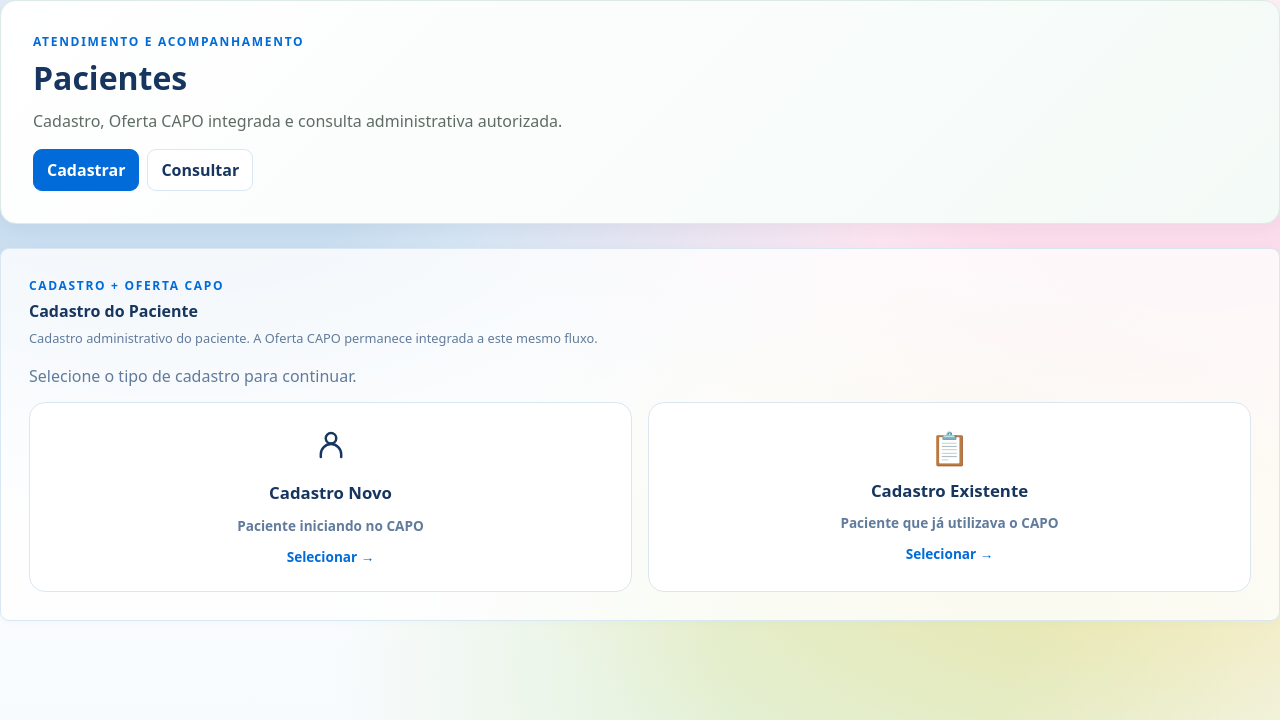
Test: localiza Familiar/Cuidador na busca de pacientes sem confundir o ID do familiar com o paciente de origem
The width and height of the screenshot is (1280, 720).
Click the button "Consultar" at [200, 170], box [147,149,253,191]
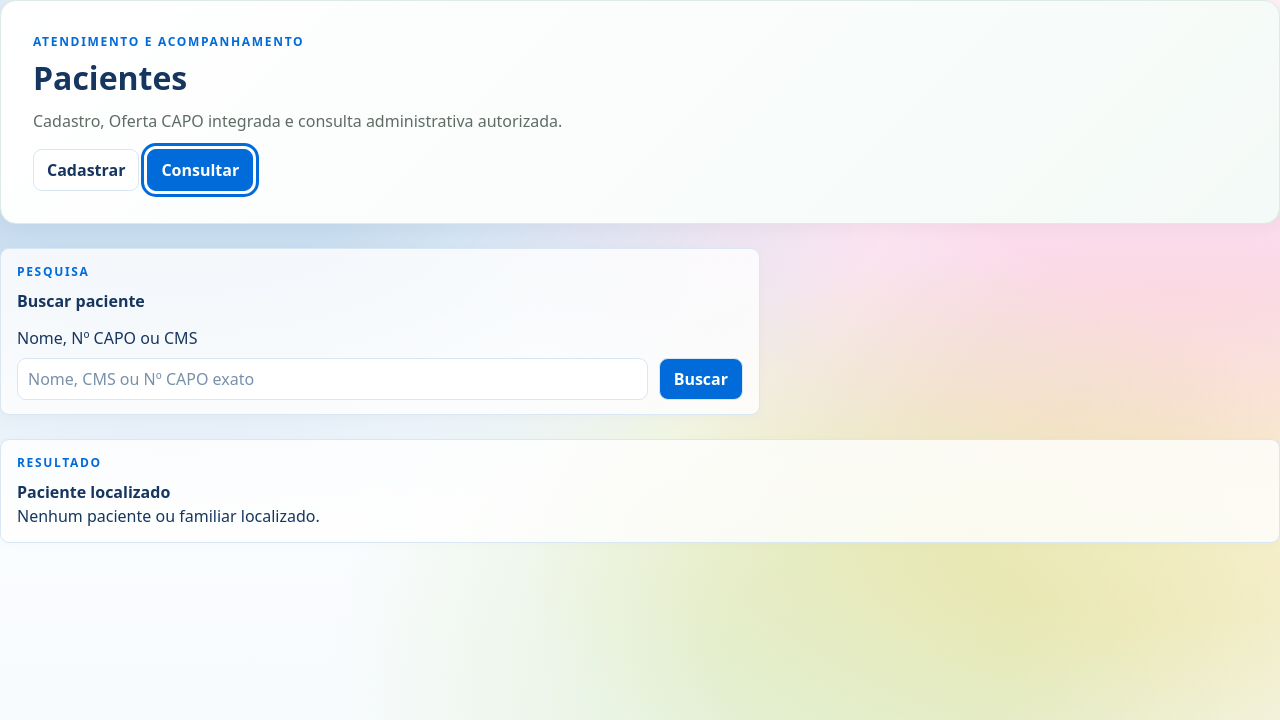
Type "Familiar" into the field with placeholder "Nome, CMS ou Nº CAPO exato" at [332, 379], box [17,358,648,400]
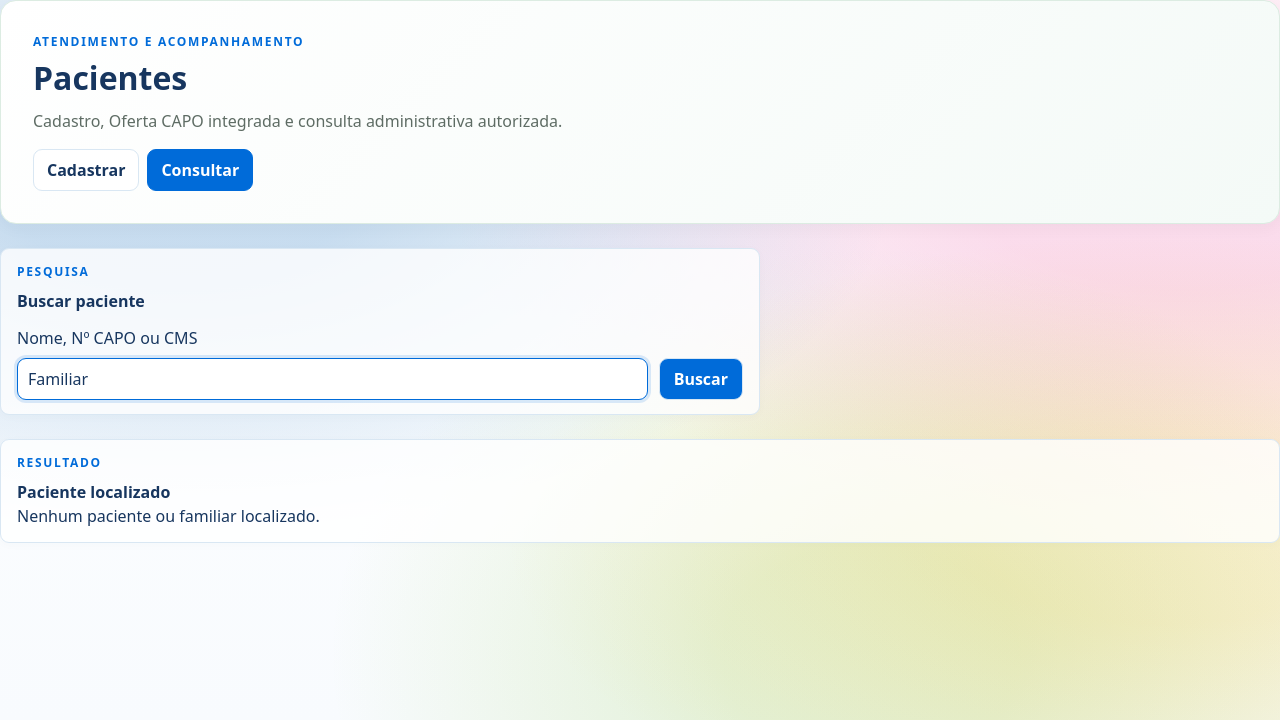
Click the button "Buscar" at [701, 379], box [659,358,743,400]
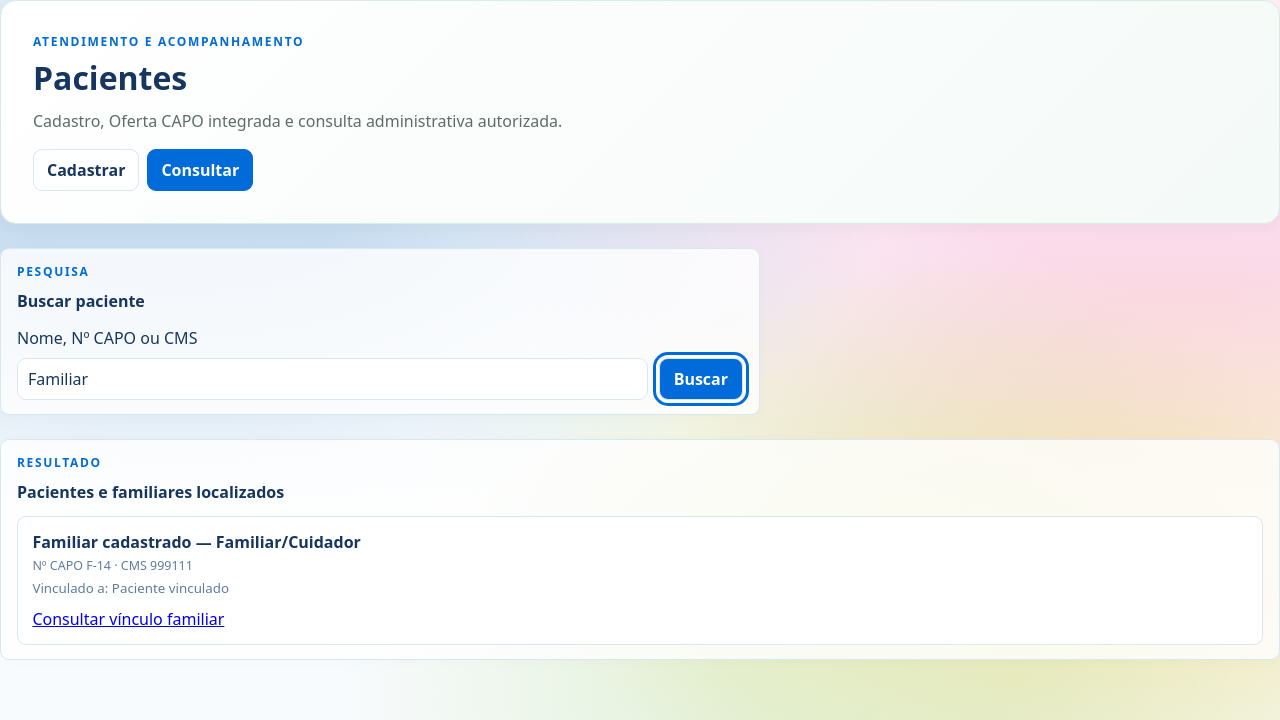
Result: the text "Familiar cadastrado — Familiar/Cuidador" is shown at [32,531,361,553]
Result: the text "Nº CAPO F-14 · CMS 999111" is shown at [32,557,193,574]
